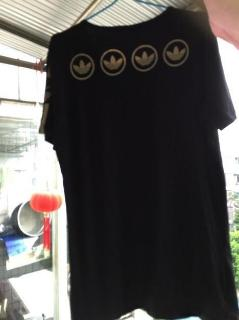short sleeve top: (38, 5, 239, 319)
